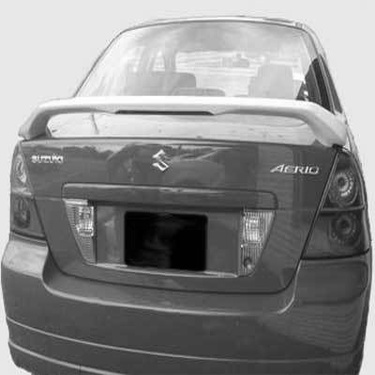car: (4, 20, 365, 369)
